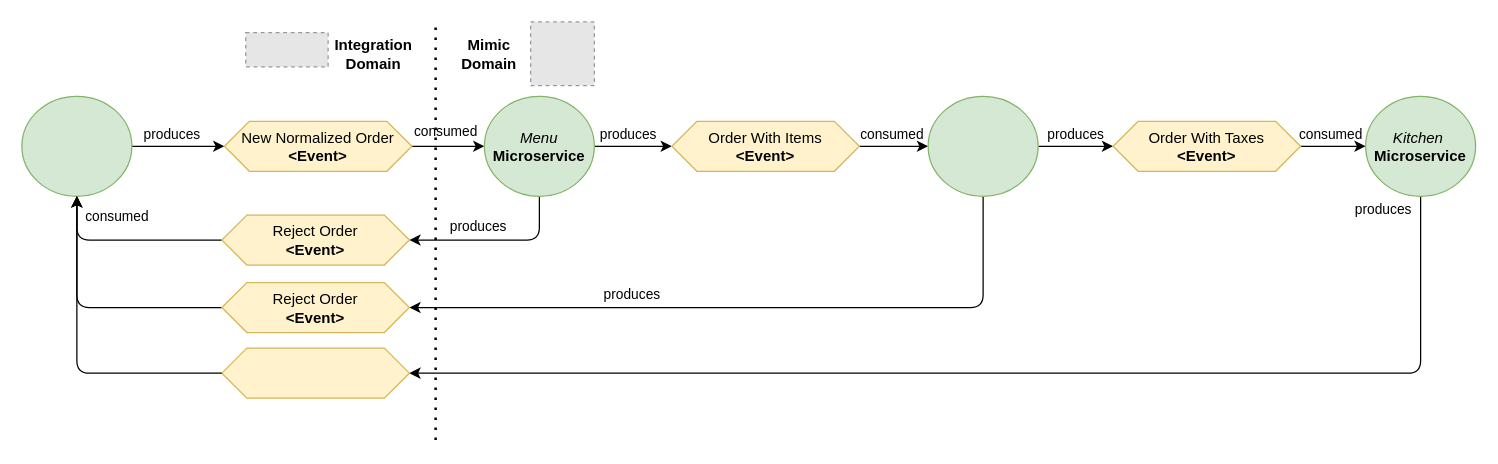
Some shapes in this 1498 by 464 pixel diagram are drawn without their labels. Grey dashed boxes stand in for pictures. The shapes that lost their labels are listed below. From the top down, each one's centre as x and y in pixels, then its label:
At point (76, 145): "Some Adapter Microservice".
At point (982, 145): "Taxes Microservice".
At point (315, 372): "Accept Order <Event>".
